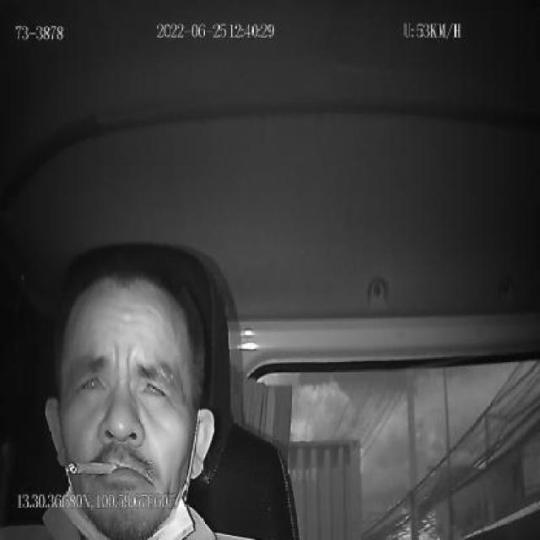smoking: (62, 457, 119, 476)
